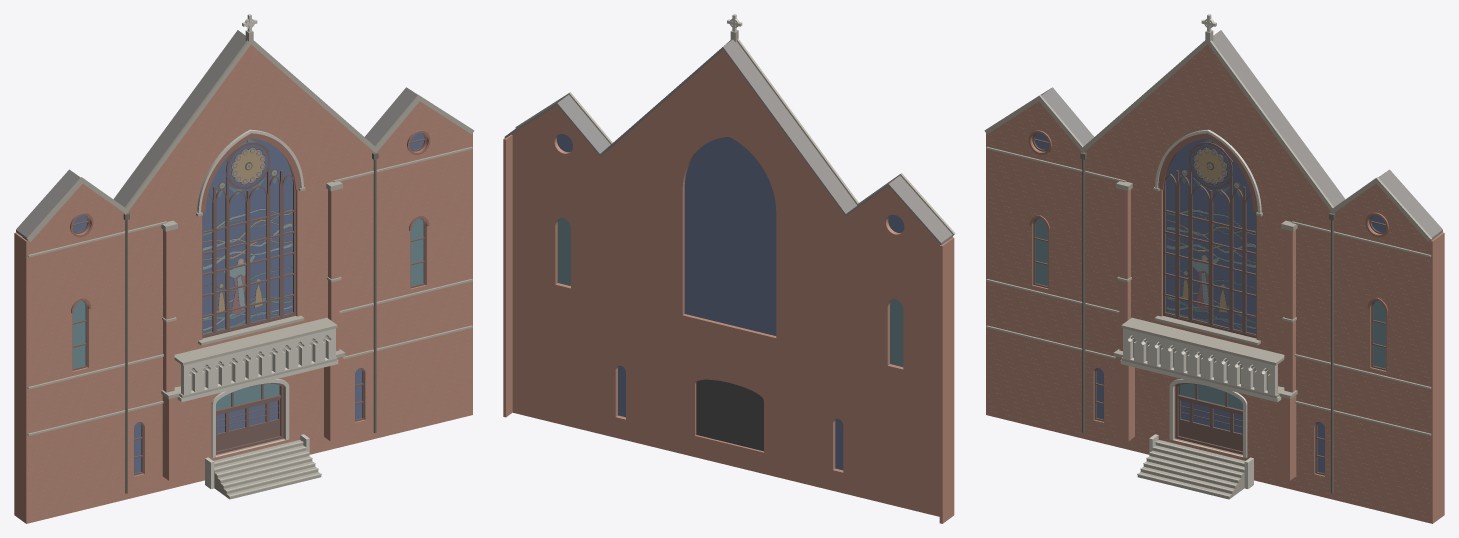
Rendered from hongkou-jingling-church-north-front-lod.glb.
3 renders of one model, left to right at view 1: azimuth 30°, elevation 25°; view 2: azimuth 150°, elevation 25°; view 3: azimuth 330°, elevation 25°, orthographic.
Visible parts, largest first — view 1: 景灵堂昆山路北门山墙与修复花窗; view 2: 景灵堂昆山路北门山墙与修复花窗; view 3: 景灵堂昆山路北门山墙与修复花窗.
Part boxes in pixels (x1,y1,x2,y2): 景灵堂昆山路北门山墙与修复花窗: (14, 14, 474, 523); 景灵堂昆山路北门山墙与修复花窗: (503, 14, 955, 523); 景灵堂昆山路北门山墙与修复花窗: (984, 14, 1444, 523).
Bounding box in the file's own units: 25.56 × 24.85 × 3.76.
